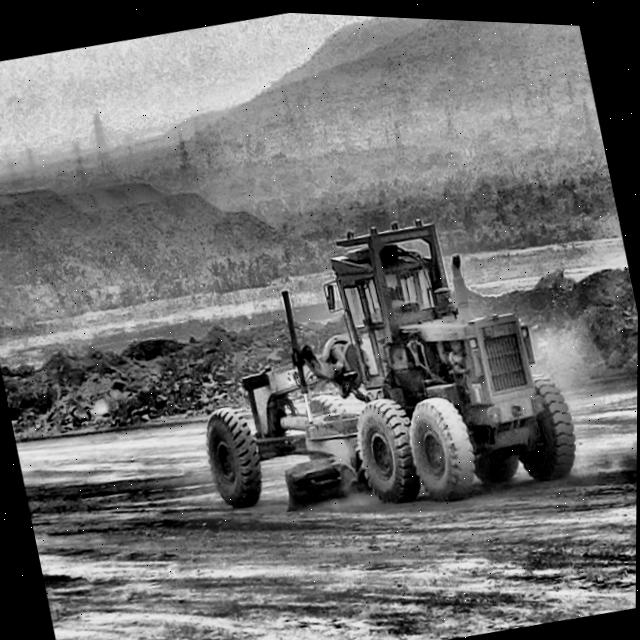buldozerpayloadergrader: (207, 218, 575, 505)
